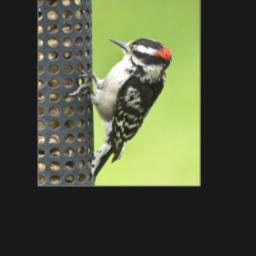Woodpecker: (72, 35, 172, 178)
